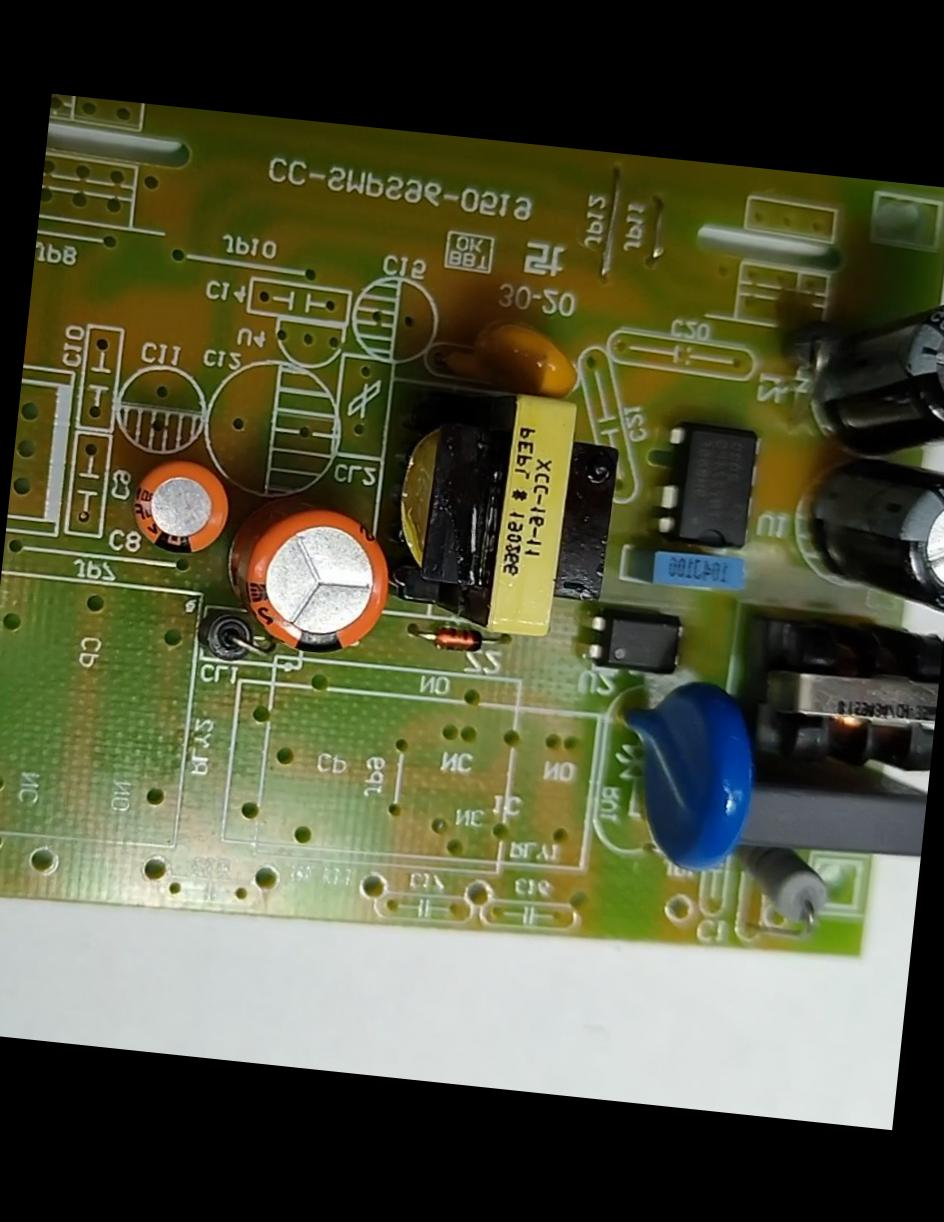Cap1: (213, 497, 402, 665)
Cap2: (120, 450, 240, 560)
Cap3: (793, 441, 943, 617)
Cap4: (791, 276, 943, 460)
MOSFET: (650, 413, 770, 558)
Mov: (594, 668, 774, 884)
Resistor: (743, 850, 833, 936)
Transformer: (379, 376, 633, 656), (726, 602, 943, 785)
